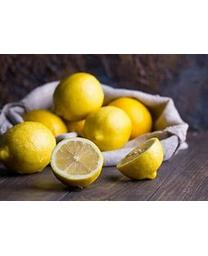lemon: (0, 123, 57, 175), (52, 138, 103, 188), (52, 73, 103, 122), (83, 108, 130, 151), (116, 140, 164, 181), (106, 98, 152, 140)
